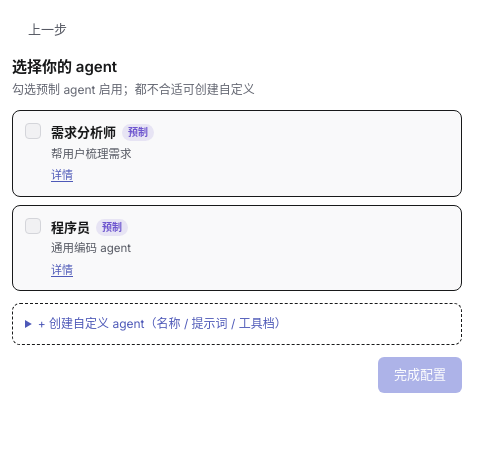
ManualAgentStep › 展开预览：拉 previewBuiltinPreset 并截断展示提示词
Click the button "详情" below "帮用户梳理需求".
click(62, 175)  # box x1=51 y1=167 x2=73 y2=184
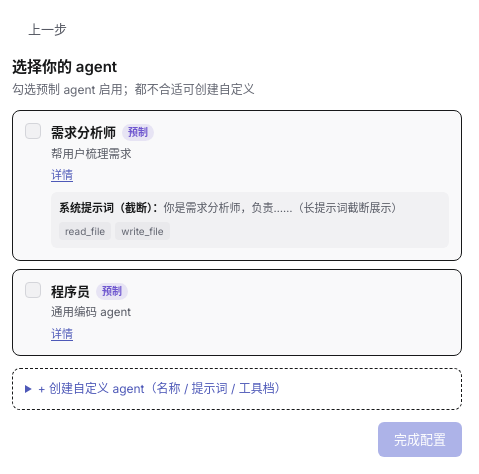
Expected: the text "系统提示词（截断）：你是需求分析师，负责……（长提示词截断展示） read_file write_file" is shown, x1=51 y1=192 x2=449 y2=248
